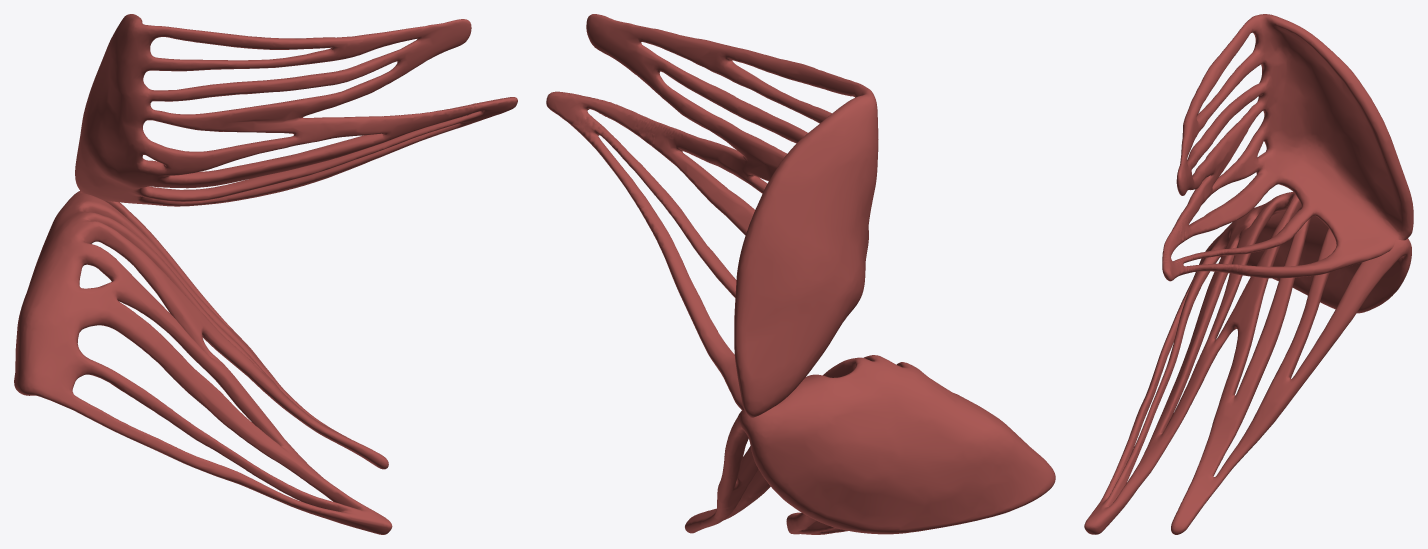
File: FMA7234.glb
3 renders of one model, left to right at view 1: azimuth 30°, elevation 25°; view 2: azimuth 150°, elevation 25°; view 3: azimuth 270°, elevation 25°, orthographic. The views are drawn at different scales.
Visible parts, largest first — view 1: FMA7234; view 2: FMA7234; view 3: FMA7234.
Boxes of the visible parts, box(x1,y1,x2,y2) form: FMA7234: box(14, 14, 517, 534); FMA7234: box(546, 14, 1055, 534); FMA7234: box(1084, 14, 1413, 534).
Bounding box in the file's own units: 0.0485 × 0.0479 × 0.0317.
